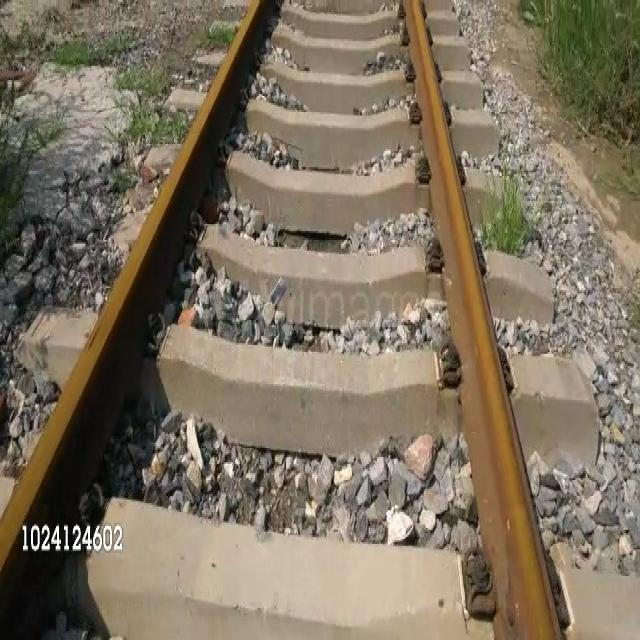Plant: (520, 1, 639, 162), (0, 118, 46, 235), (484, 176, 526, 252), (118, 109, 185, 141), (117, 64, 168, 92), (0, 28, 36, 59), (202, 26, 233, 50), (57, 39, 86, 61)
